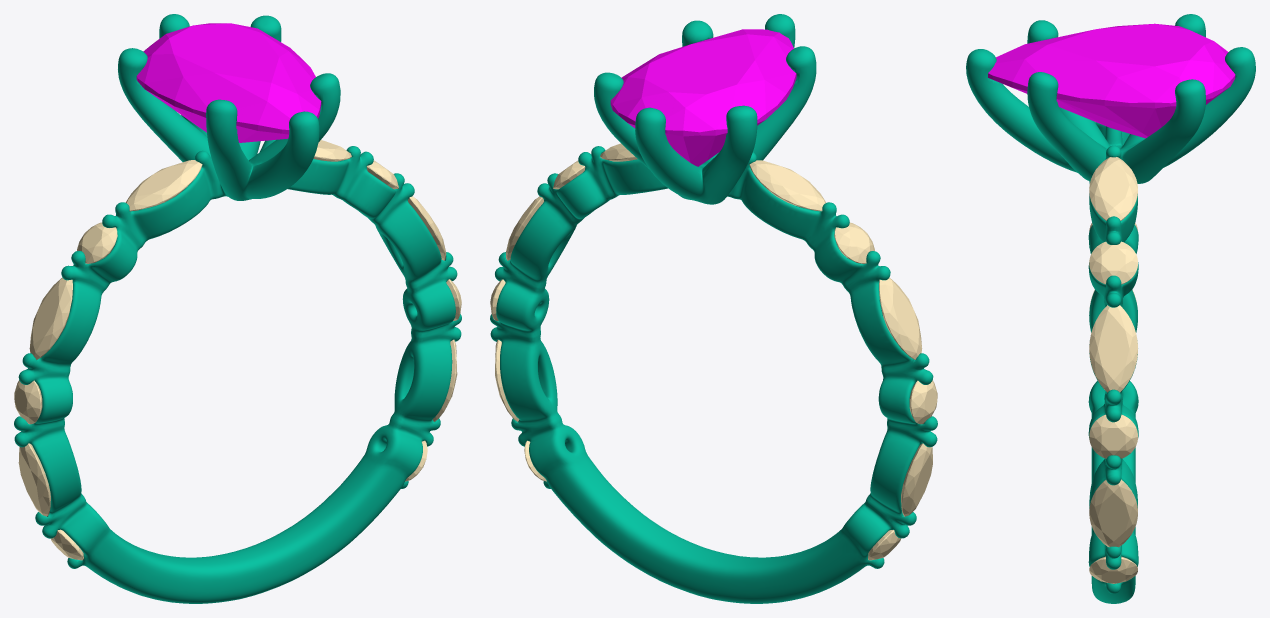
Rendered from BE1D626_PE_200ct_RENDER.glb.
The picture shows the model from 3 angles, left to right: view 1: azimuth 30°, elevation 25°; view 2: azimuth 150°, elevation 25°; view 3: azimuth 270°, elevation 25°; orthographic projection.
Visible parts, largest first — view 1: Metal 01, CS_Diamond_Pear, Diamond_Marquise_Gem_SH.003, Diamond_Marquise_Gem_SH, Diamond_Marquise_Gem_SH.002, Diamond_Round_Gem_SH.001, Diamond_Round_Gem_SH, Diamond_Marquise_Gem_SH.004; view 2: Metal 01, CS_Diamond_Pear, Diamond_Marquise_Gem_SH.003, Diamond_Marquise_Gem_SH, Diamond_Marquise_Gem_SH.002, Diamond_Round_Gem_SH.001, Diamond_Round_Gem_SH, Diamond_Marquise_Gem_SH.004; view 3: Metal 01, CS_Diamond_Pear, Diamond_Marquise_Gem_SH.004, Diamond_Marquise_Gem_SH.005, Diamond_Marquise_Gem_SH.001, Diamond_Round_Gem_SH.004, Diamond_Round_Gem_SH.005, Diamond_Round_Gem_SH.003.
Part boxes in pixels (box(x1,y1,x2,y2)): Metal 01: box(14, 14, 461, 603); CS_Diamond_Pear: box(136, 23, 321, 142); Diamond_Marquise_Gem_SH.003: box(29, 277, 72, 359); Diamond_Marquise_Gem_SH: box(125, 160, 202, 211); Diamond_Marquise_Gem_SH.002: box(18, 443, 50, 516); Diamond_Round_Gem_SH.001: box(77, 222, 117, 263); Diamond_Round_Gem_SH: box(14, 380, 42, 424); Diamond_Marquise_Gem_SH.004: box(408, 196, 446, 260); Metal 01: box(490, 14, 937, 603); CS_Diamond_Pear: box(610, 29, 796, 166); Diamond_Marquise_Gem_SH.003: box(879, 277, 922, 359); Diamond_Marquise_Gem_SH: box(749, 160, 825, 211); Diamond_Marquise_Gem_SH.002: box(901, 443, 932, 516); Diamond_Round_Gem_SH.001: box(834, 222, 874, 263); Diamond_Round_Gem_SH: box(909, 380, 937, 424); Diamond_Marquise_Gem_SH.004: box(505, 196, 543, 260); Metal 01: box(966, 14, 1255, 603); CS_Diamond_Pear: box(988, 23, 1235, 138); Diamond_Marquise_Gem_SH.004: box(1089, 305, 1137, 392); Diamond_Marquise_Gem_SH.005: box(1089, 479, 1137, 547); Diamond_Marquise_Gem_SH.001: box(1089, 157, 1137, 220); Diamond_Round_Gem_SH.004: box(1089, 414, 1137, 458); Diamond_Round_Gem_SH.005: box(1089, 241, 1137, 284); Diamond_Round_Gem_SH.003: box(1089, 556, 1137, 583).
Size of the model in its own units: 21.03 by 24.22 by 11.87.
